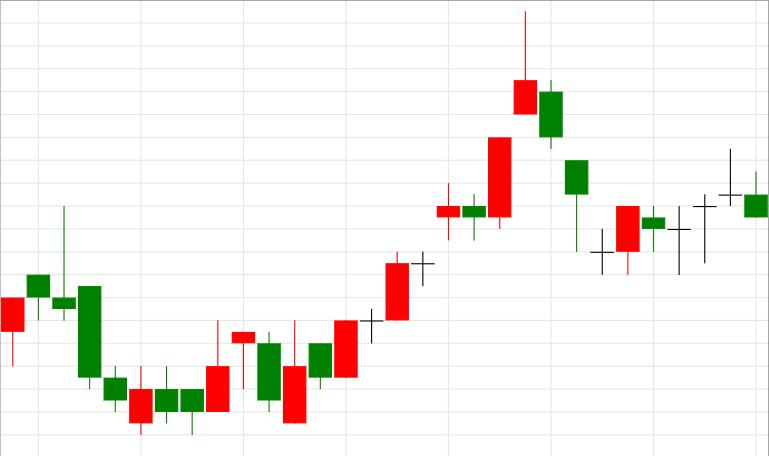shooting_star_fall: (334, 11, 538, 378)
